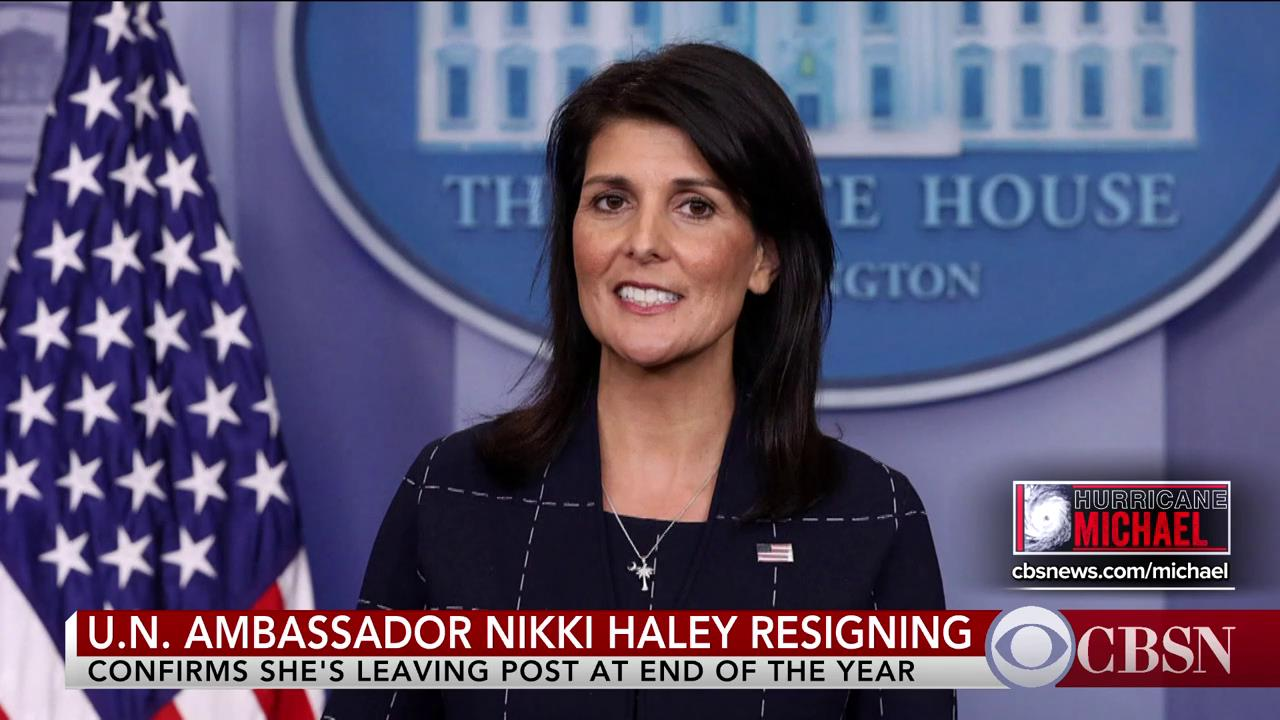CBSN: (1076, 622, 1237, 679)
CONFIRMS SHE'S LEAVING POST AT END OF THE YEAR: (87, 657, 916, 685)
E: (835, 169, 886, 231)
GTON: (839, 257, 986, 302)
HOUSE: (918, 169, 1183, 232)
HURRICANE: (1072, 485, 1226, 509)
MICHAEL: (1071, 508, 1209, 548)
TH: (443, 173, 545, 228)
U.N. AMBASSADOR NIKKY HALEY RESIGNING: (86, 612, 975, 651)
cbsnews.com/michael: (1012, 561, 1230, 581)
